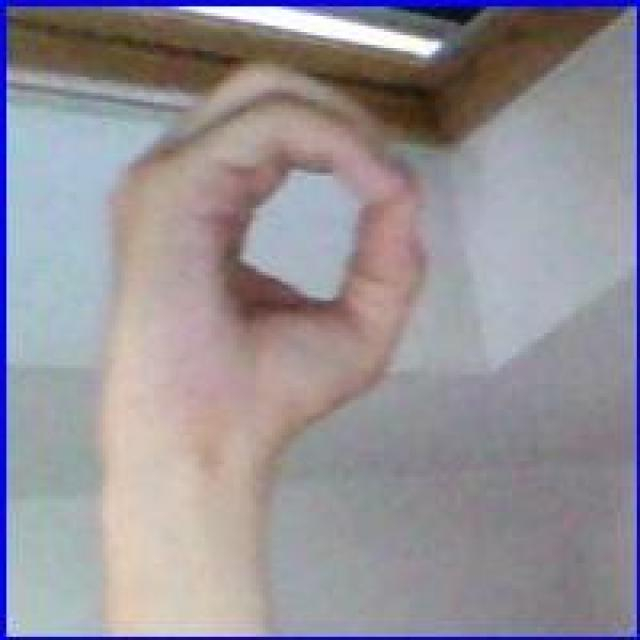O: (90, 53, 428, 472)
